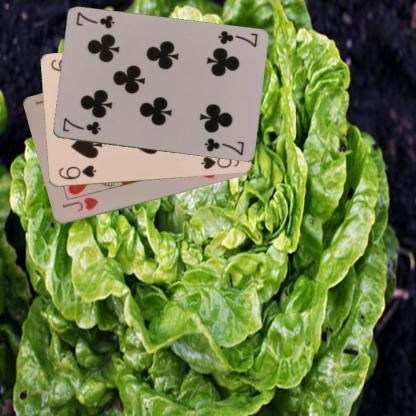6s: (56, 162, 98, 181)
7c: (214, 28, 258, 49), (60, 115, 102, 136)
Jh: (60, 194, 100, 214)
